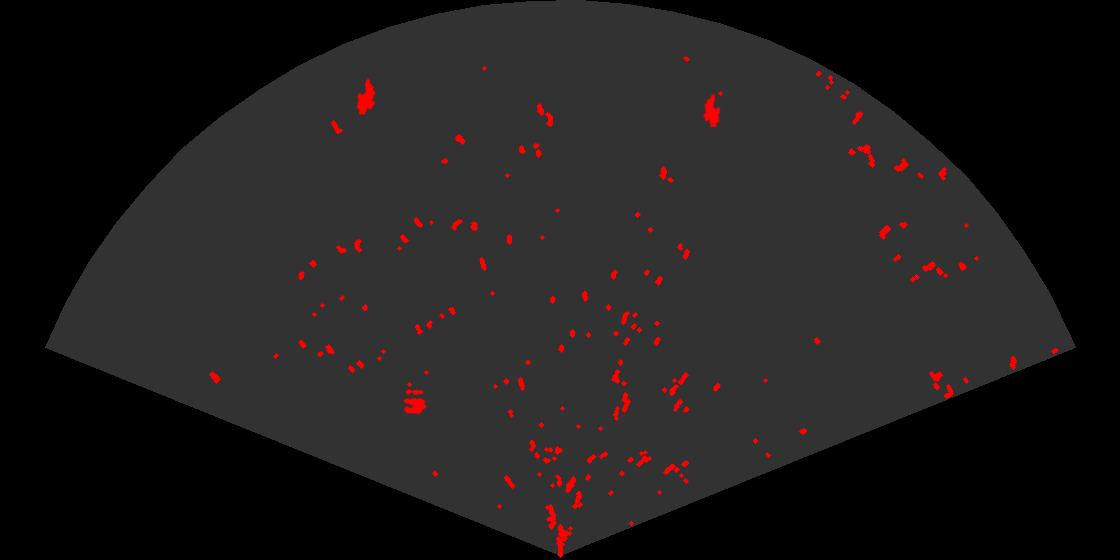AUV: (355, 77, 377, 117), (701, 92, 722, 129)
ball: (401, 388, 428, 415)
